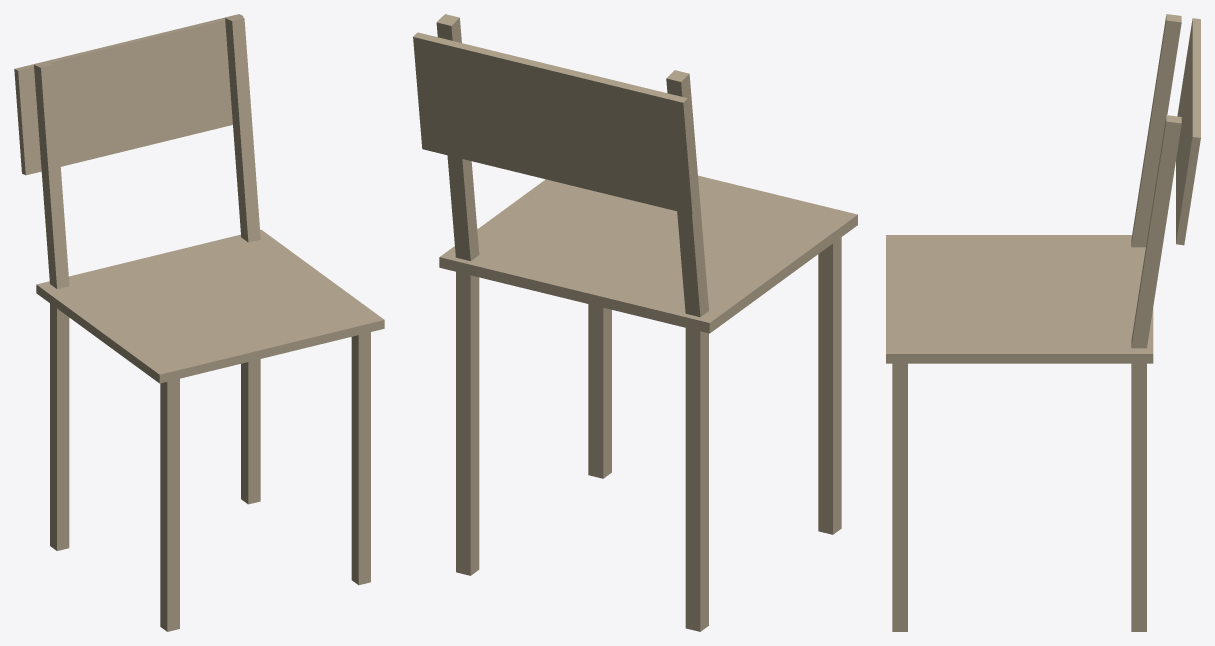
File: chair-lod1.glb
The picture shows the model from 3 angles, left to right: view 1: azimuth 30°, elevation 25°; view 2: azimuth 150°, elevation 25°; view 3: azimuth 270°, elevation 25°; orthographic projection. The views are drawn at different scales.
Parts seen in each view (by area): view 1: chair-lod1; view 2: chair-lod1; view 3: chair-lod1.
Boxes of the visible parts, bbox=[...] form: chair-lod1: bbox=[14, 14, 384, 631]; chair-lod1: bbox=[413, 14, 857, 631]; chair-lod1: bbox=[886, 14, 1200, 631].
Size of the model in its own units: 0.4 by 0.8009 by 0.4478.
